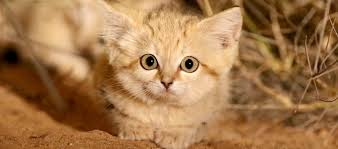cat: (92, 5, 251, 119)
